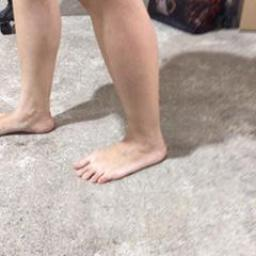Lateral View -Left Foot-: (69, 115, 175, 188)
